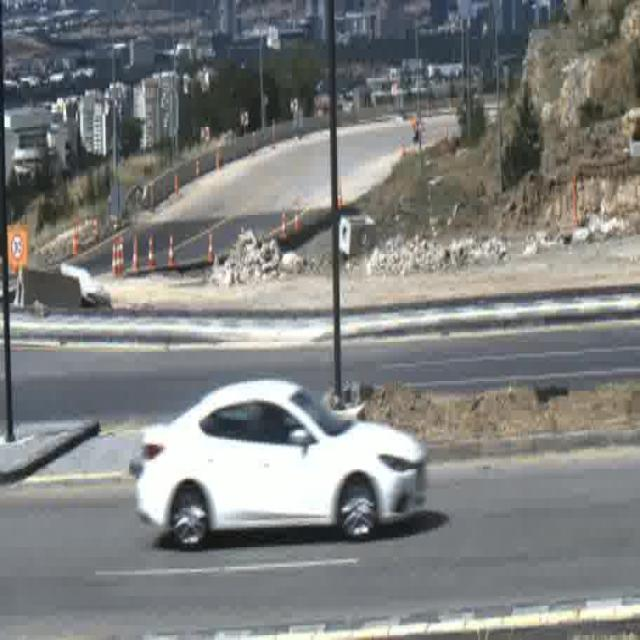Car: (134, 377, 426, 540)
Motorcycle: (410, 109, 423, 144)
